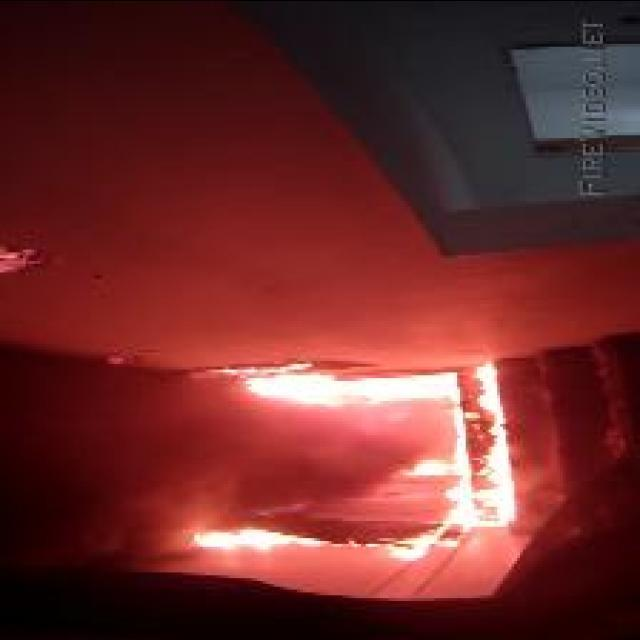Fire: (217, 356, 517, 562), (192, 526, 328, 552)
